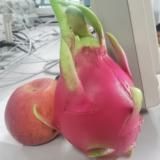apple: (5, 78, 64, 147)
pitaya: (55, 1, 143, 160)
